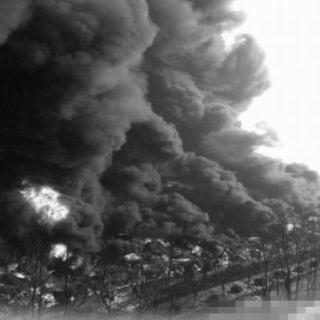Fire: (11, 177, 67, 226)
Smoke: (4, 1, 288, 167), (71, 167, 318, 240)
